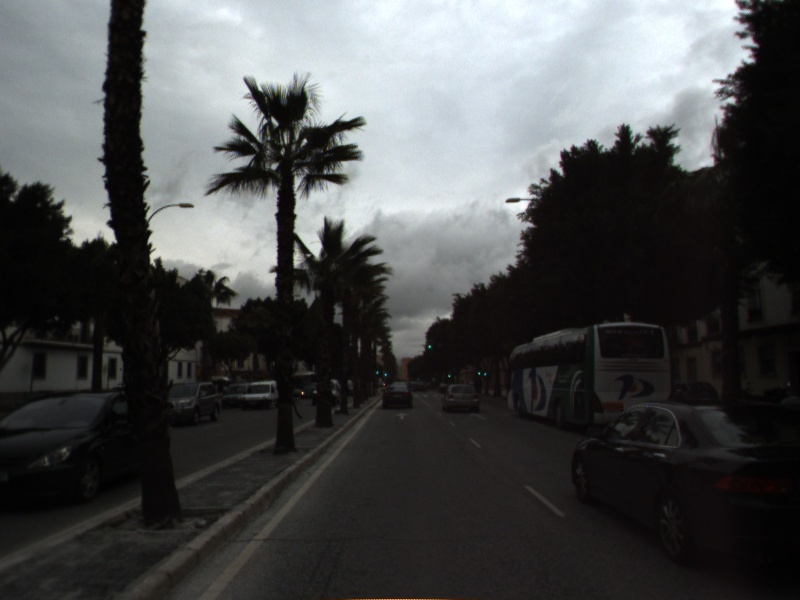STRAIGHT: (467, 410, 489, 422), (392, 410, 411, 422)
